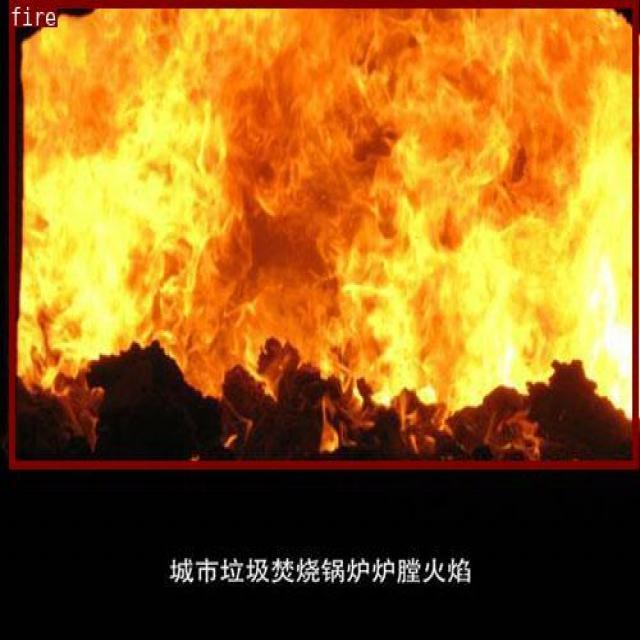fire: (8, 0, 637, 468)
